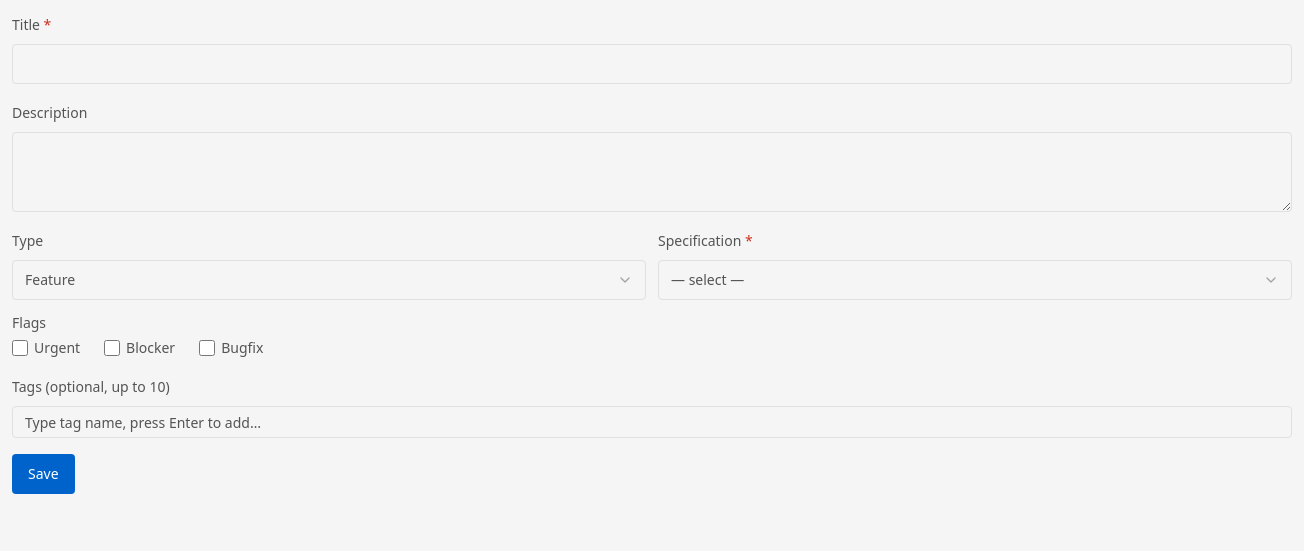
Scenario: TicketForm › shows validation error when title is empty
Click the button "Save": coordinates (43, 474) [12,454,75,494]
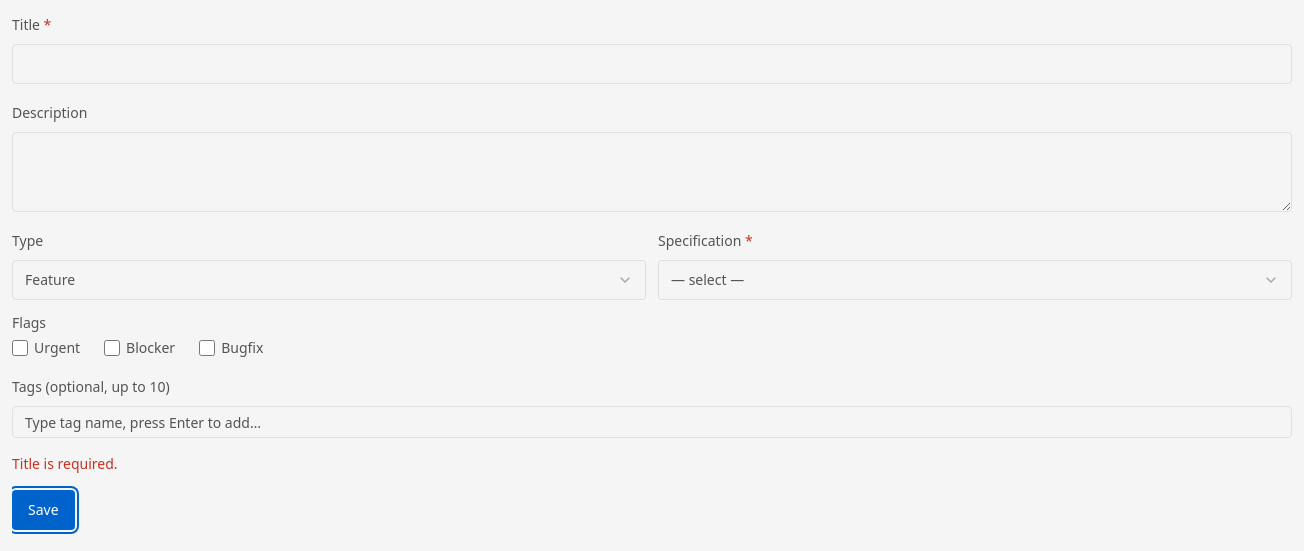
Now the message shows "Title is required", box [12,454,118,473]
